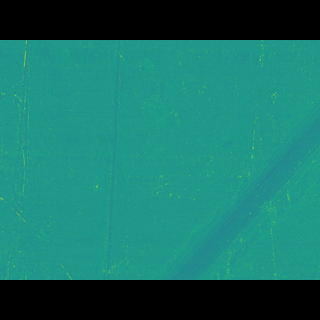Loch: (150, 112, 320, 249), (0, 70, 302, 96), (94, 69, 134, 251)
